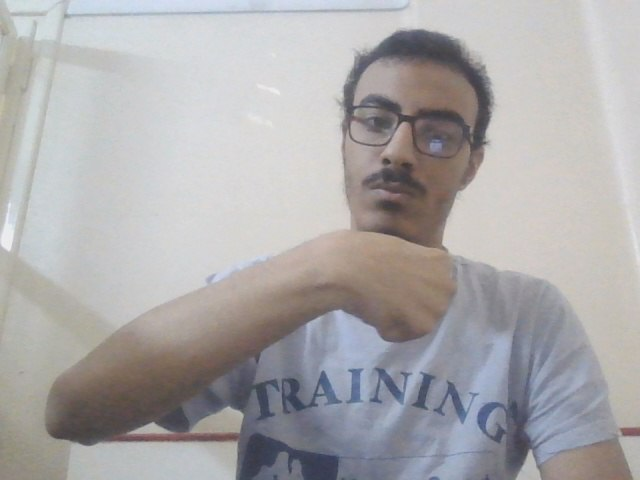Me: (308, 218, 467, 351)
